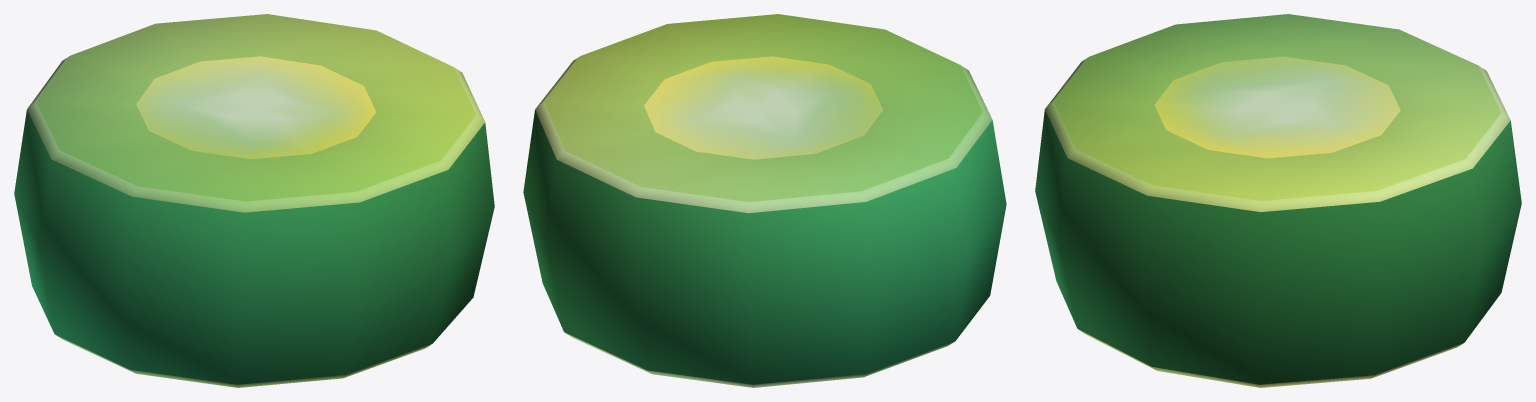
The model's file is cucumber_003.fbx.
3 views of the same model, side by side, from view 1: azimuth 30°, elevation 25°; view 2: azimuth 150°, elevation 25°; view 3: azimuth 270°, elevation 25° (orthographic).
Parts seen in each view (by area): view 1: cucumber_003; view 2: cucumber_003; view 3: cucumber_003.
Boxes of the visible parts, x1,y1,x2,y2 form: cucumber_003: [14, 14, 494, 387]; cucumber_003: [523, 14, 1006, 387]; cucumber_003: [1035, 14, 1521, 387].
Size of the model in its own units: 6.07 by 6.06 by 2.65.
